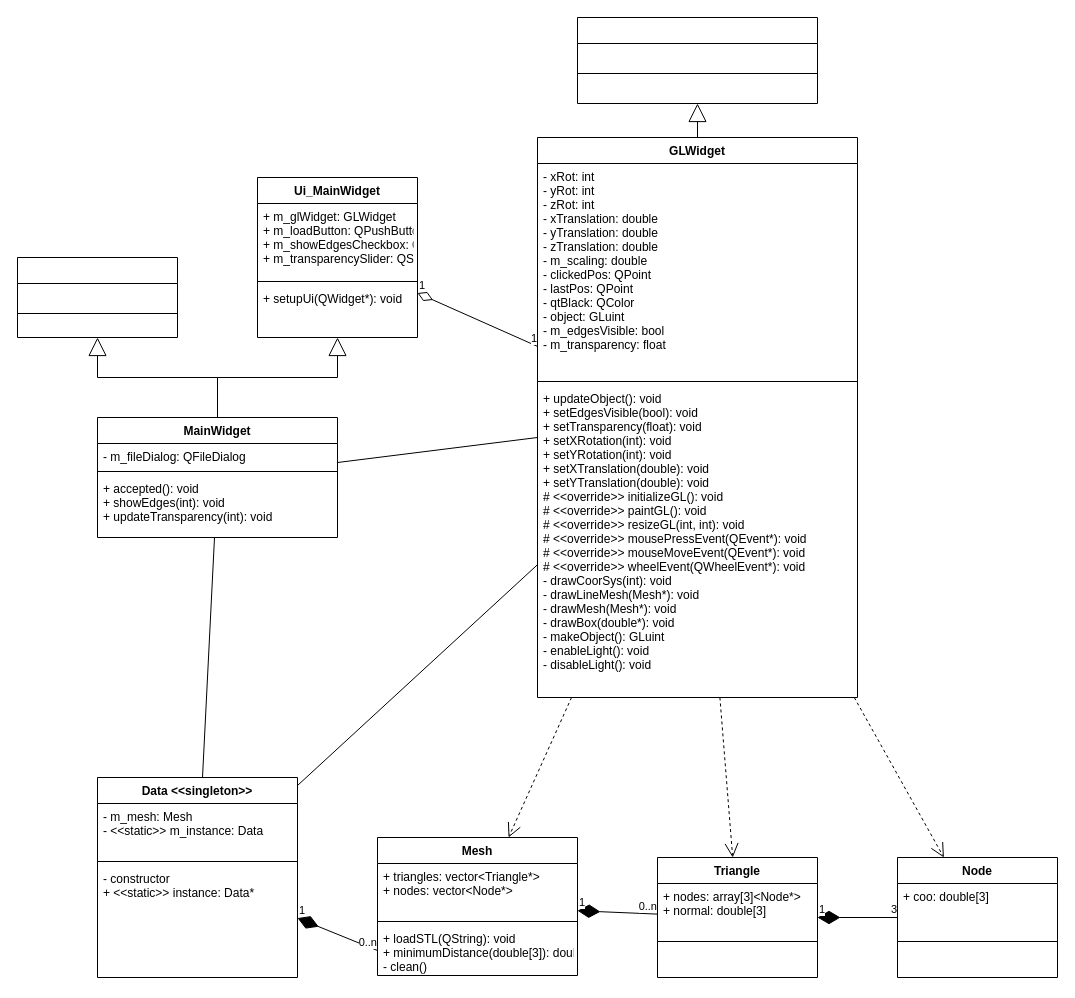
Some shapes in this 1075 by 998 pixel diagram are drawn without their labels. Each missing label, with the centre of its shape:
"QGLWidget" belongs at point (697, 60).
"QWidget" belongs at point (97, 297).
